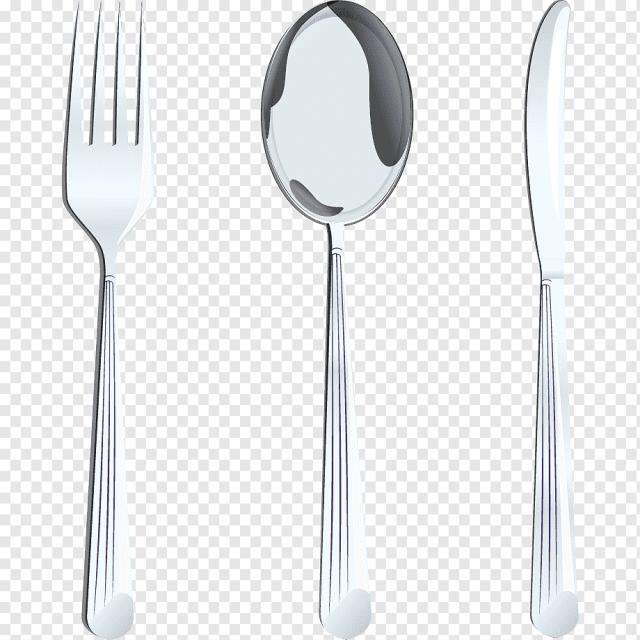Garpu: (33, 5, 195, 640)
Pisau: (487, 2, 612, 640)
Sendok: (244, 0, 433, 640)
